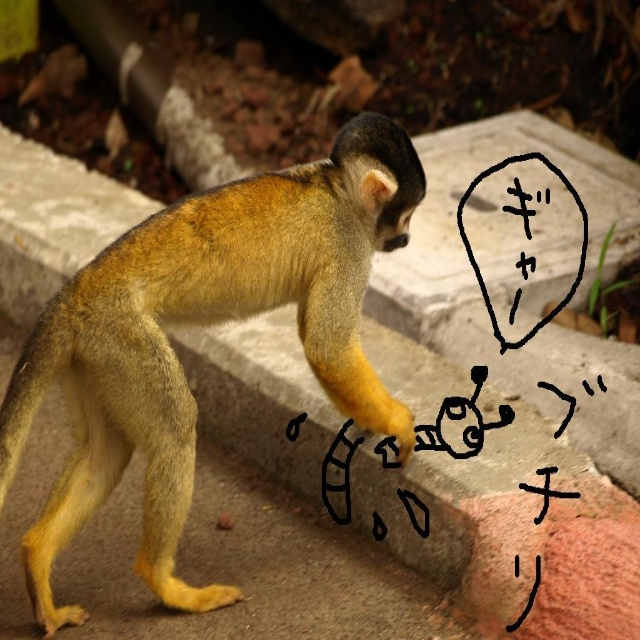Monkey: (0, 107, 426, 639)
